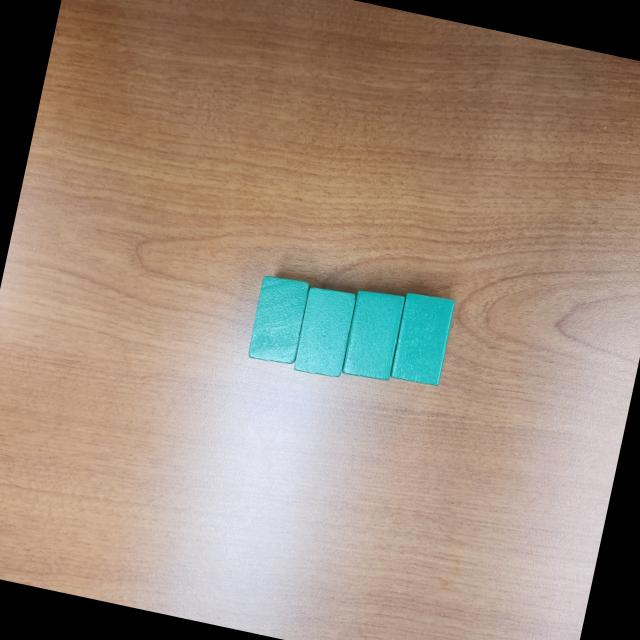green: (386, 290, 456, 390), (338, 286, 407, 384), (244, 270, 312, 368), (291, 282, 358, 380)
